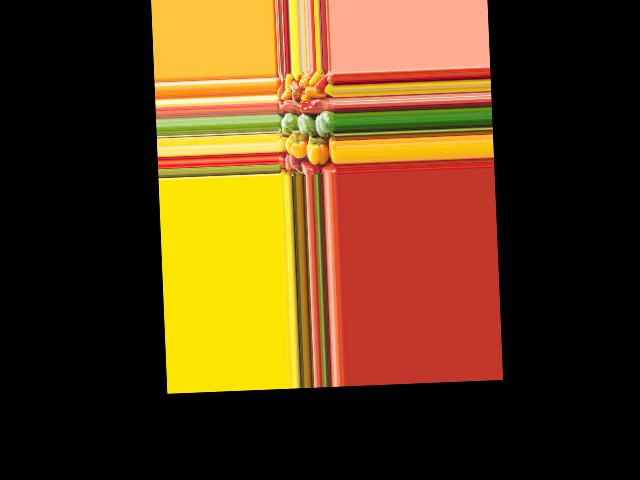bell_pepper: (313, 73, 329, 92)
